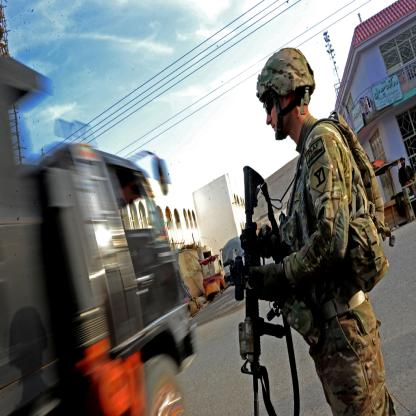Helmet: (260, 51, 320, 137)
